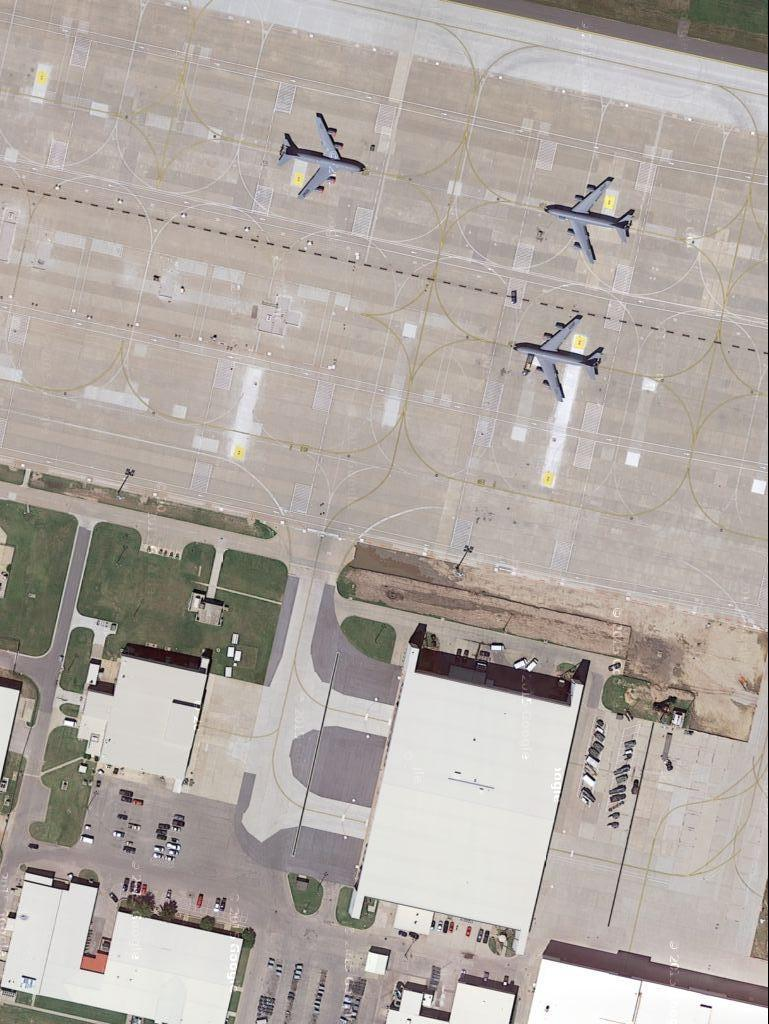KC-135: (511, 311, 611, 406), (276, 108, 375, 203), (547, 172, 641, 268)
